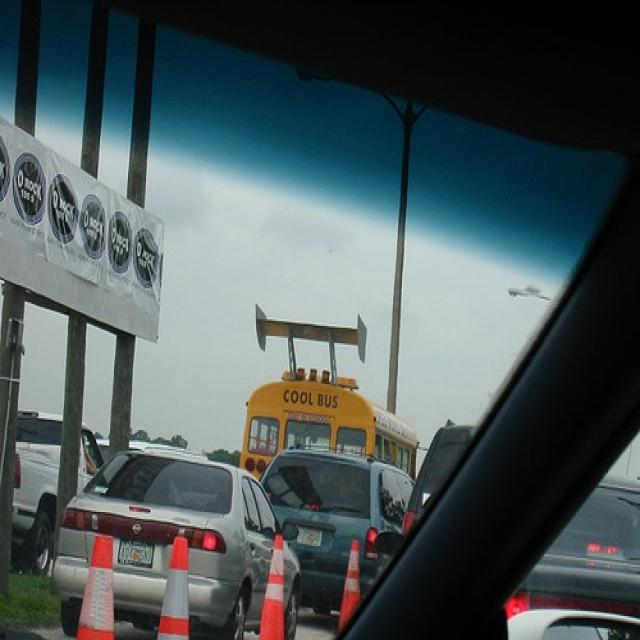bus: (241, 368, 419, 489)
car: (49, 436, 301, 639), (251, 436, 401, 619), (507, 471, 640, 628), (1, 413, 106, 575)
